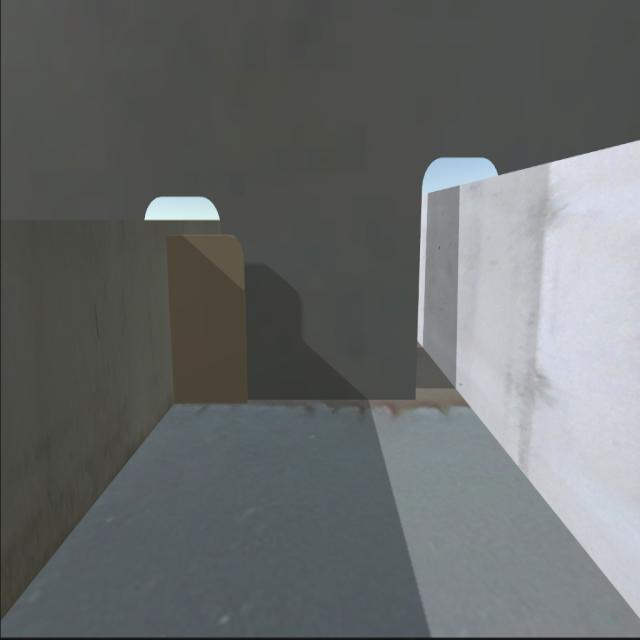fillet_yong_jeop_jang: (175, 391, 416, 406)
longi_yong_jeop_jang: (164, 231, 182, 403)
plate_CP05: (166, 228, 250, 407)
